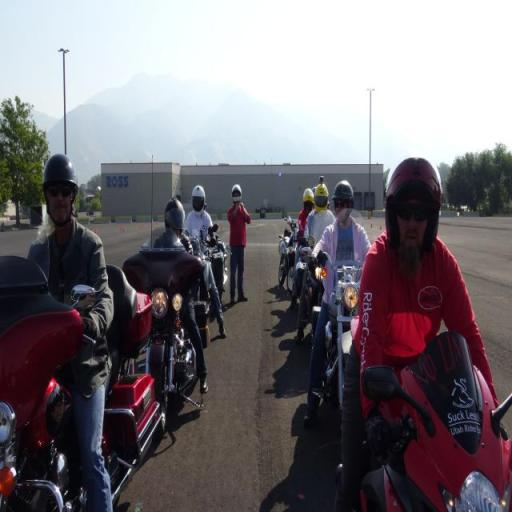Helmet: (382, 158, 437, 266), (41, 159, 80, 229), (162, 196, 184, 244), (330, 181, 356, 221), (190, 180, 206, 218), (315, 179, 329, 214), (300, 183, 314, 217), (230, 184, 241, 203)
Motor: (6, 267, 160, 512), (367, 341, 510, 512), (125, 250, 202, 413), (329, 259, 371, 393)
